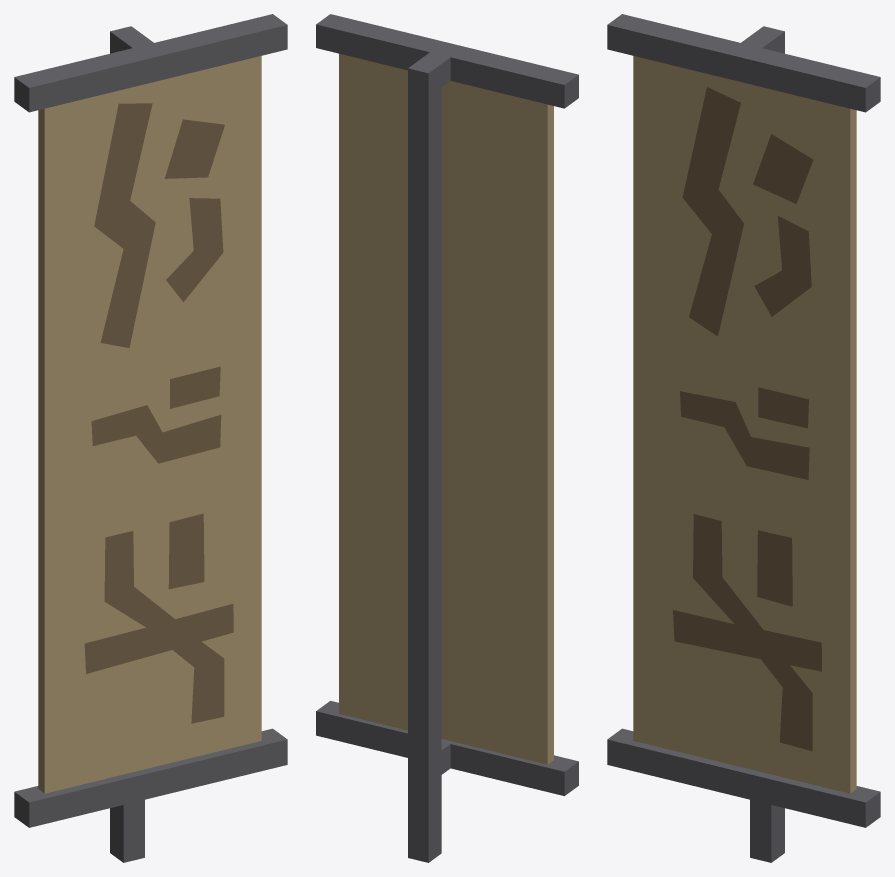
Rendered from city_SM_Prop_Paper_Banner_01.gltf.
The picture shows the model from 3 angles, left to right: view 1: azimuth 30°, elevation 25°; view 2: azimuth 150°, elevation 25°; view 3: azimuth 330°, elevation 25°; orthographic projection. The views are drawn at different scales.
Visible parts, largest first — view 1: SM_Prop_Paper_Banner_01; view 2: SM_Prop_Paper_Banner_01; view 3: SM_Prop_Paper_Banner_01.
Part boxes in pixels (x1=…): SM_Prop_Paper_Banner_01: x1=14, y1=14, x2=287, y2=862; SM_Prop_Paper_Banner_01: x1=316, y1=14, x2=578, y2=862; SM_Prop_Paper_Banner_01: x1=607, y1=14, x2=880, y2=862.
Bounding box in the file's own units: 0.6906 × 2.1 × 0.1749.
1 material, 1 textured.
